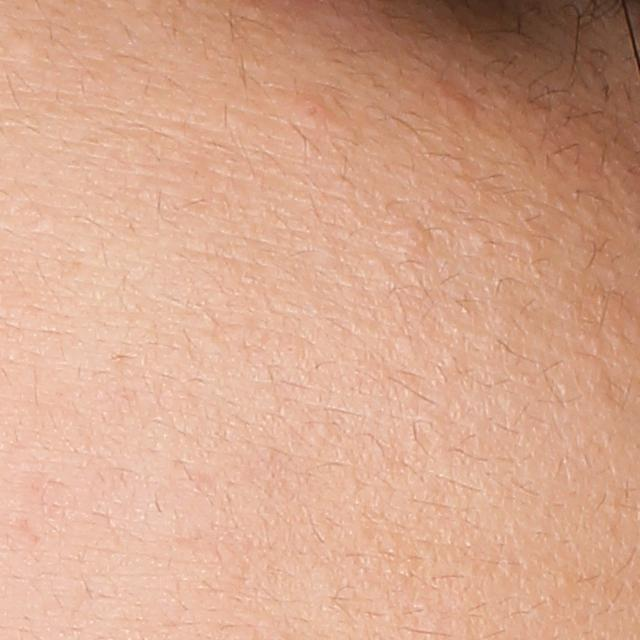comedo: (403, 222, 429, 245), (472, 229, 493, 255)
